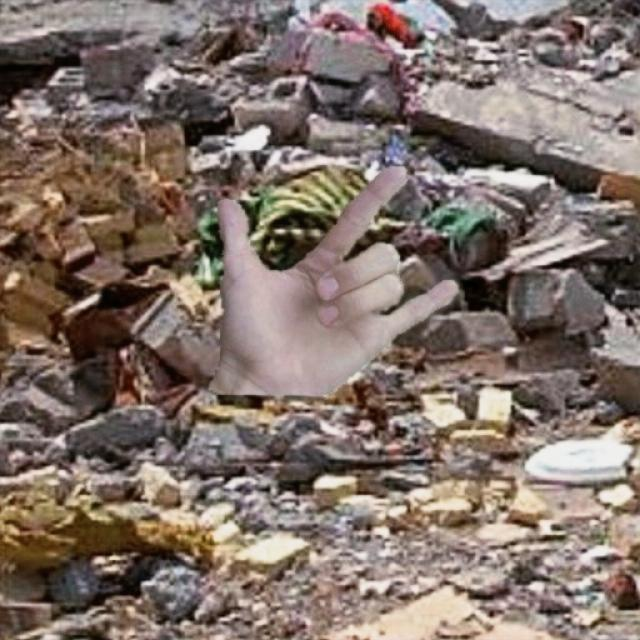Person in Rubble: (208, 166, 458, 396)
